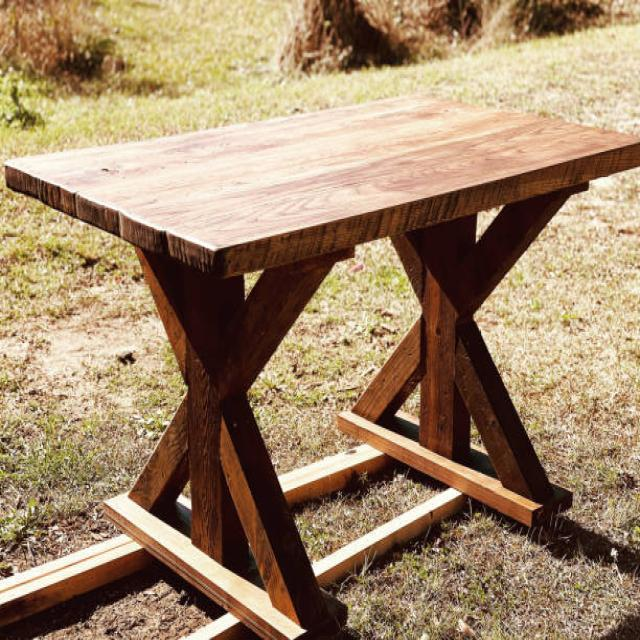table: (3, 91, 638, 638)
